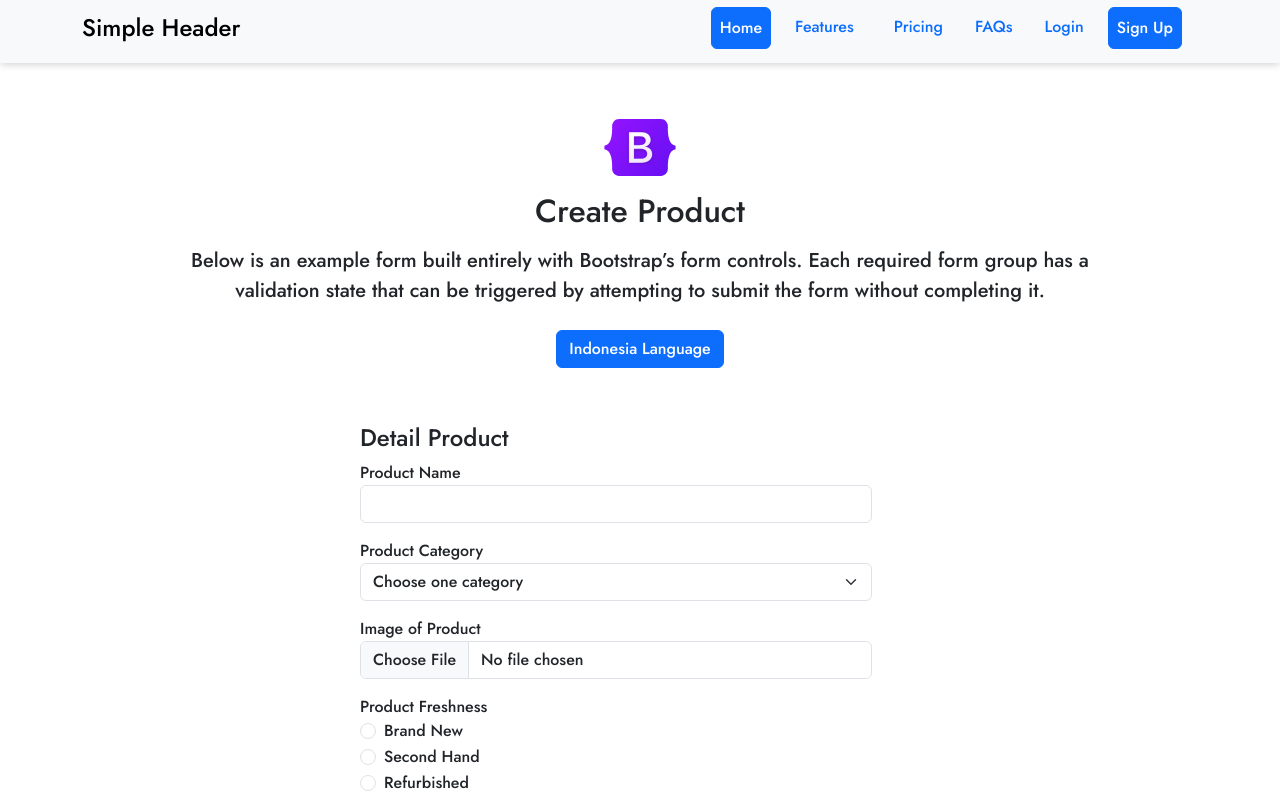
Test: tes product name tidak boleh melebihi 25 karakter
Type "ThisProductNameIsTooLongToPassTheValidation" into the field labelled "Product Name".
click(616, 504); type("ThisProductNameIsTooLongToPassTheValidation")  # box [360,485,872,523]
(page scrolled)
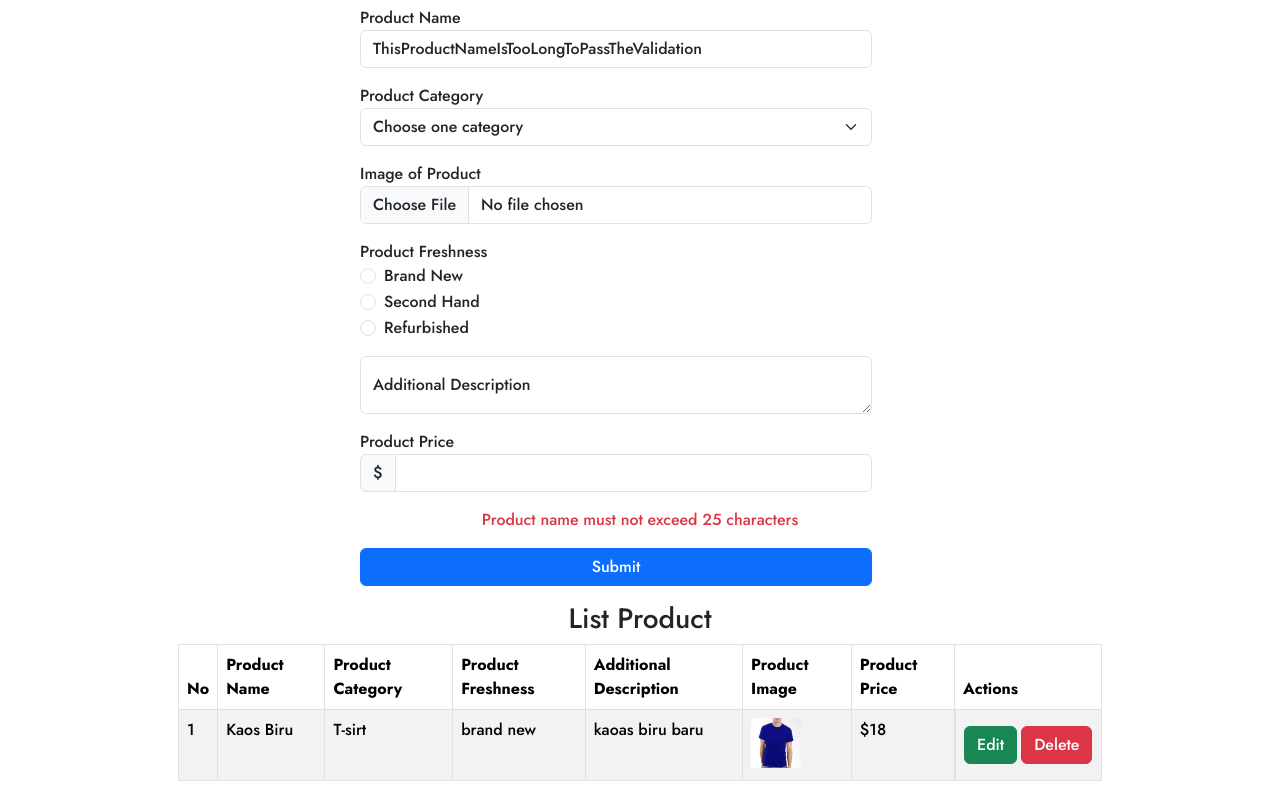
Now the text "Product name must not exceed 25 characters" is shown, box [482,508,798,531]
